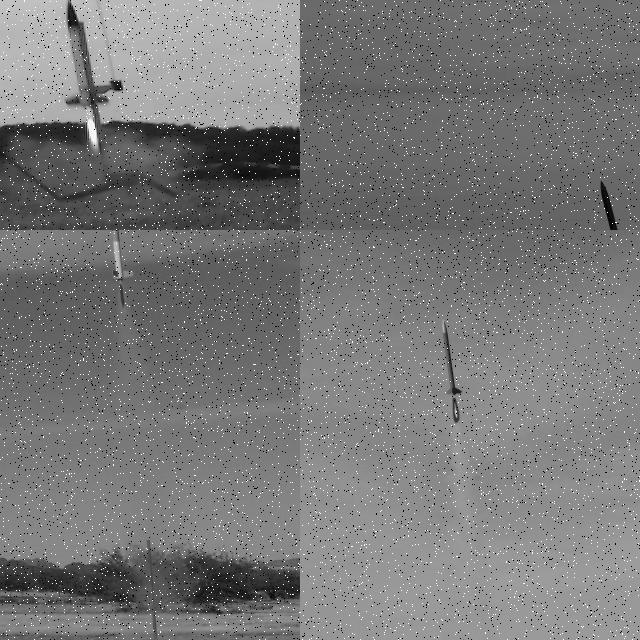Rocket: (64, 0, 110, 106), (599, 179, 640, 230), (441, 320, 463, 396), (108, 230, 134, 280)
